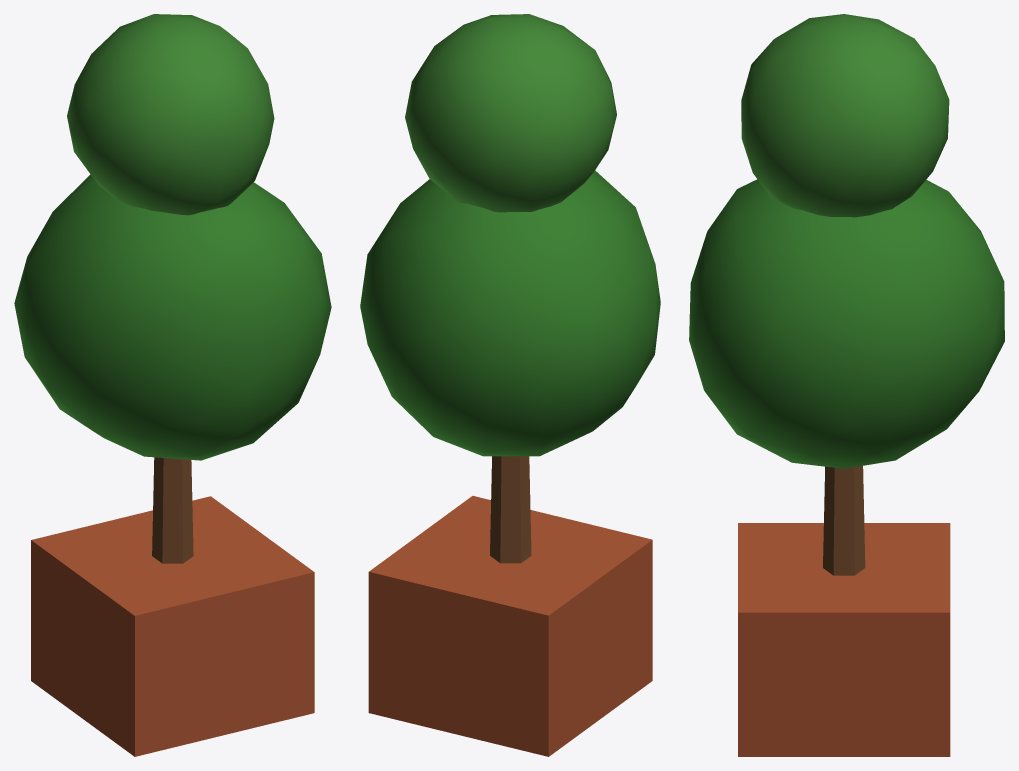
Rendered from topiary.glb.
3 views of the same model, side by side, from view 1: azimuth 30°, elevation 25°; view 2: azimuth 150°, elevation 25°; view 3: azimuth 270°, elevation 25° (orthographic). The views are drawn at different scales.
Visible parts, largest first — view 1: decor-topiary; view 2: decor-topiary; view 3: decor-topiary.
Boxes of the visible parts, left/top/right/bottom form: decor-topiary: left=14, top=14, right=331, bottom=756; decor-topiary: left=360, top=14, right=660, bottom=756; decor-topiary: left=689, top=14, right=1004, bottom=756.
Size of the model in its own units: 0.872 by 2.15 by 0.8932.
